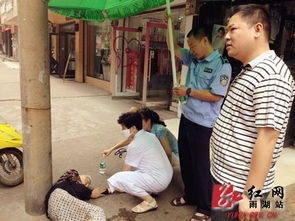falling: (36, 159, 131, 221)
